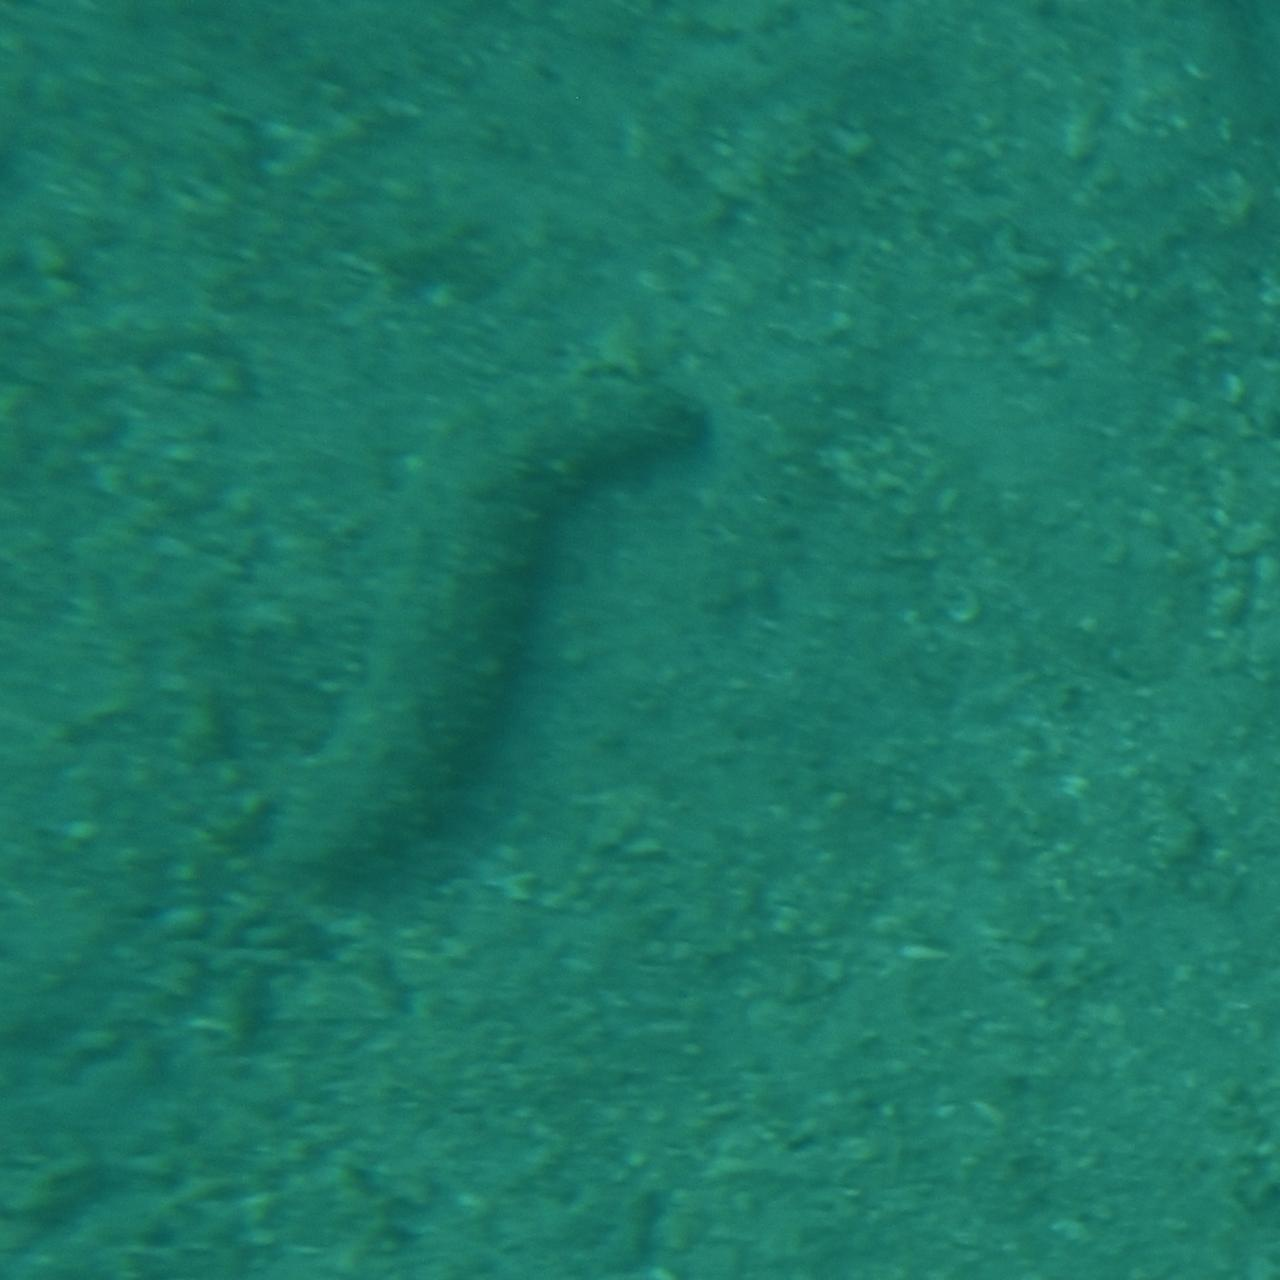Holothuria tubulosa: (257, 367, 704, 913)
